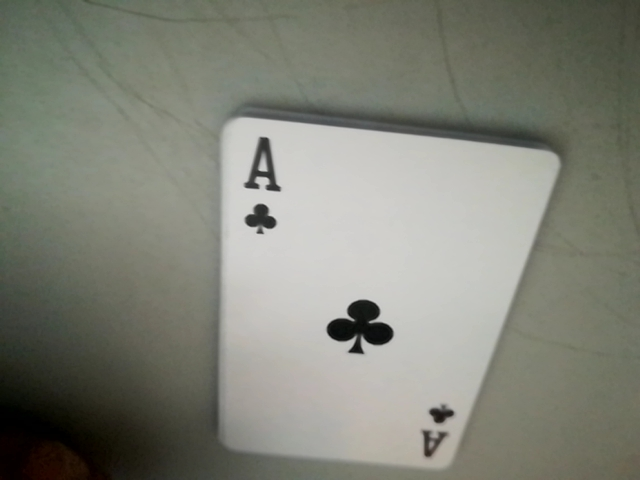mh a: (223, 120, 289, 242), (413, 396, 463, 469)
